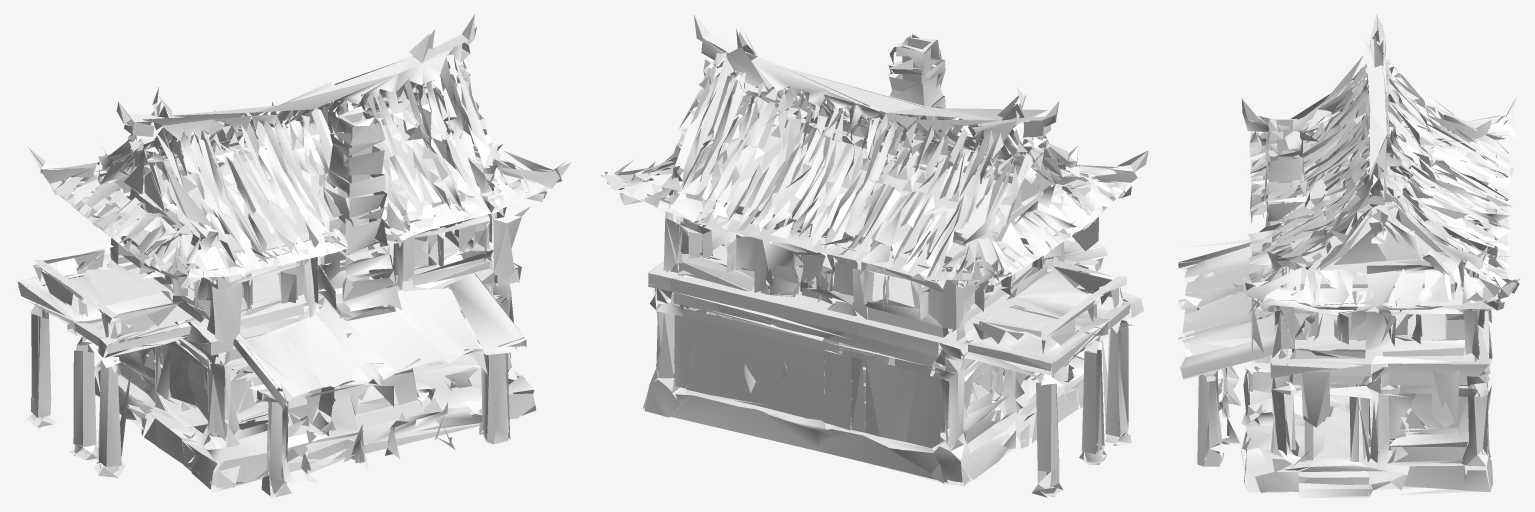
The model's file is house_shop_c_lod1.glb.
The picture shows the model from 3 angles, left to right: view 1: azimuth 30°, elevation 25°; view 2: azimuth 150°, elevation 25°; view 3: azimuth 270°, elevation 25°; orthographic projection. The views are drawn at different scales.
Visible parts, largest first — view 1: house_shop_c; view 2: house_shop_c; view 3: house_shop_c.
Boxes of the visible parts, <box> form: house_shop_c: <box>16,14,571,497</box>; house_shop_c: <box>600,14,1148,497</box>; house_shop_c: <box>1178,14,1520,497</box>.
Bounding box in the file's own units: 11.66 × 9.15 × 8.64.
Materials: 1 (1 with a texture image).
